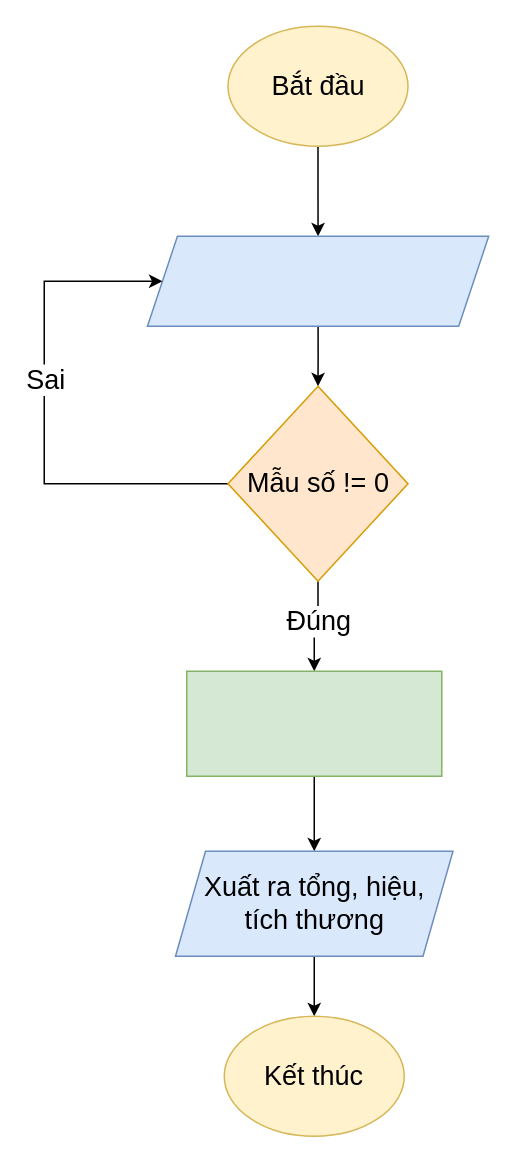
The diagram is 516 pixels wide and 1163 high, and some of its shapes have lost their labels. The centre of each missing label's shape, as x and y in pixels:
"Nhập tử số, mẫu số của hai phân số" goes at [317,280].
"Tính tổng, hiệu, tích, thương" goes at [313,723].
